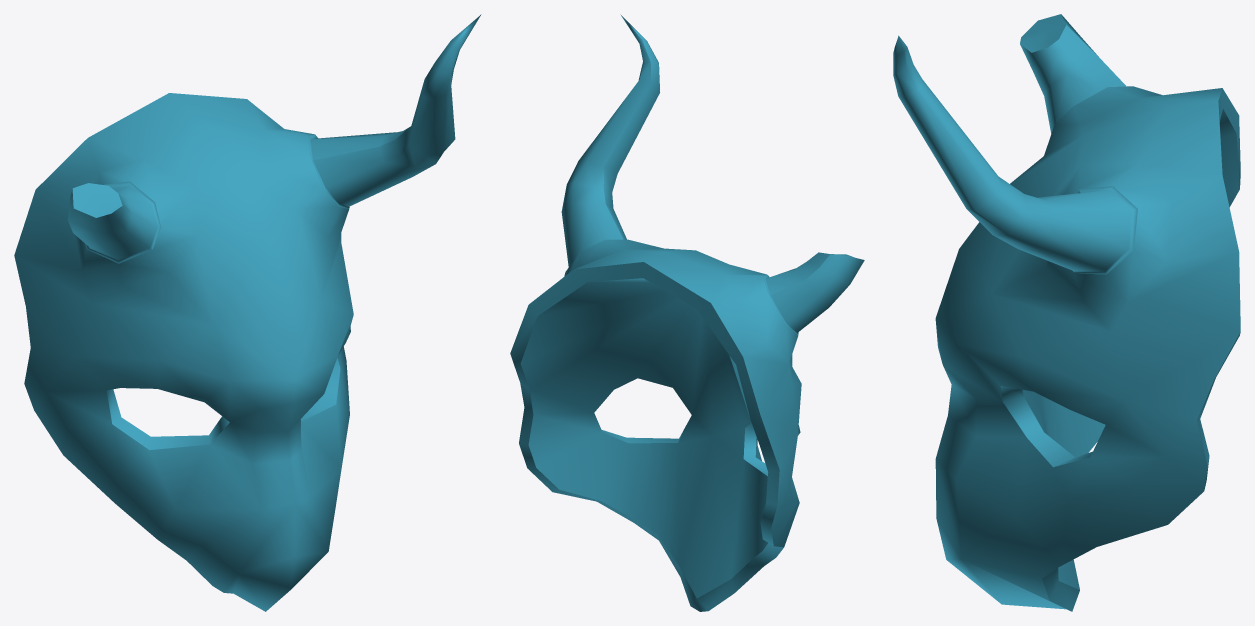
File: Mask_low.fbx
3 views of the same model, side by side, from view 1: azimuth 30°, elevation 25°; view 2: azimuth 150°, elevation 25°; view 3: azimuth 270°, elevation 25° (orthographic). The views are drawn at different scales.
Visible parts, largest first — view 1: Mask_low; view 2: Mask_low; view 3: Mask_low.
Boxes of the visible parts, x1=… form: Mask_low: x1=14, y1=14, x2=481, y2=611; Mask_low: x1=510, y1=14, x2=864, y2=611; Mask_low: x1=893, y1=14, x2=1240, y2=611.
Size of the model in its own units: 9.77 by 15.53 by 7.33.
